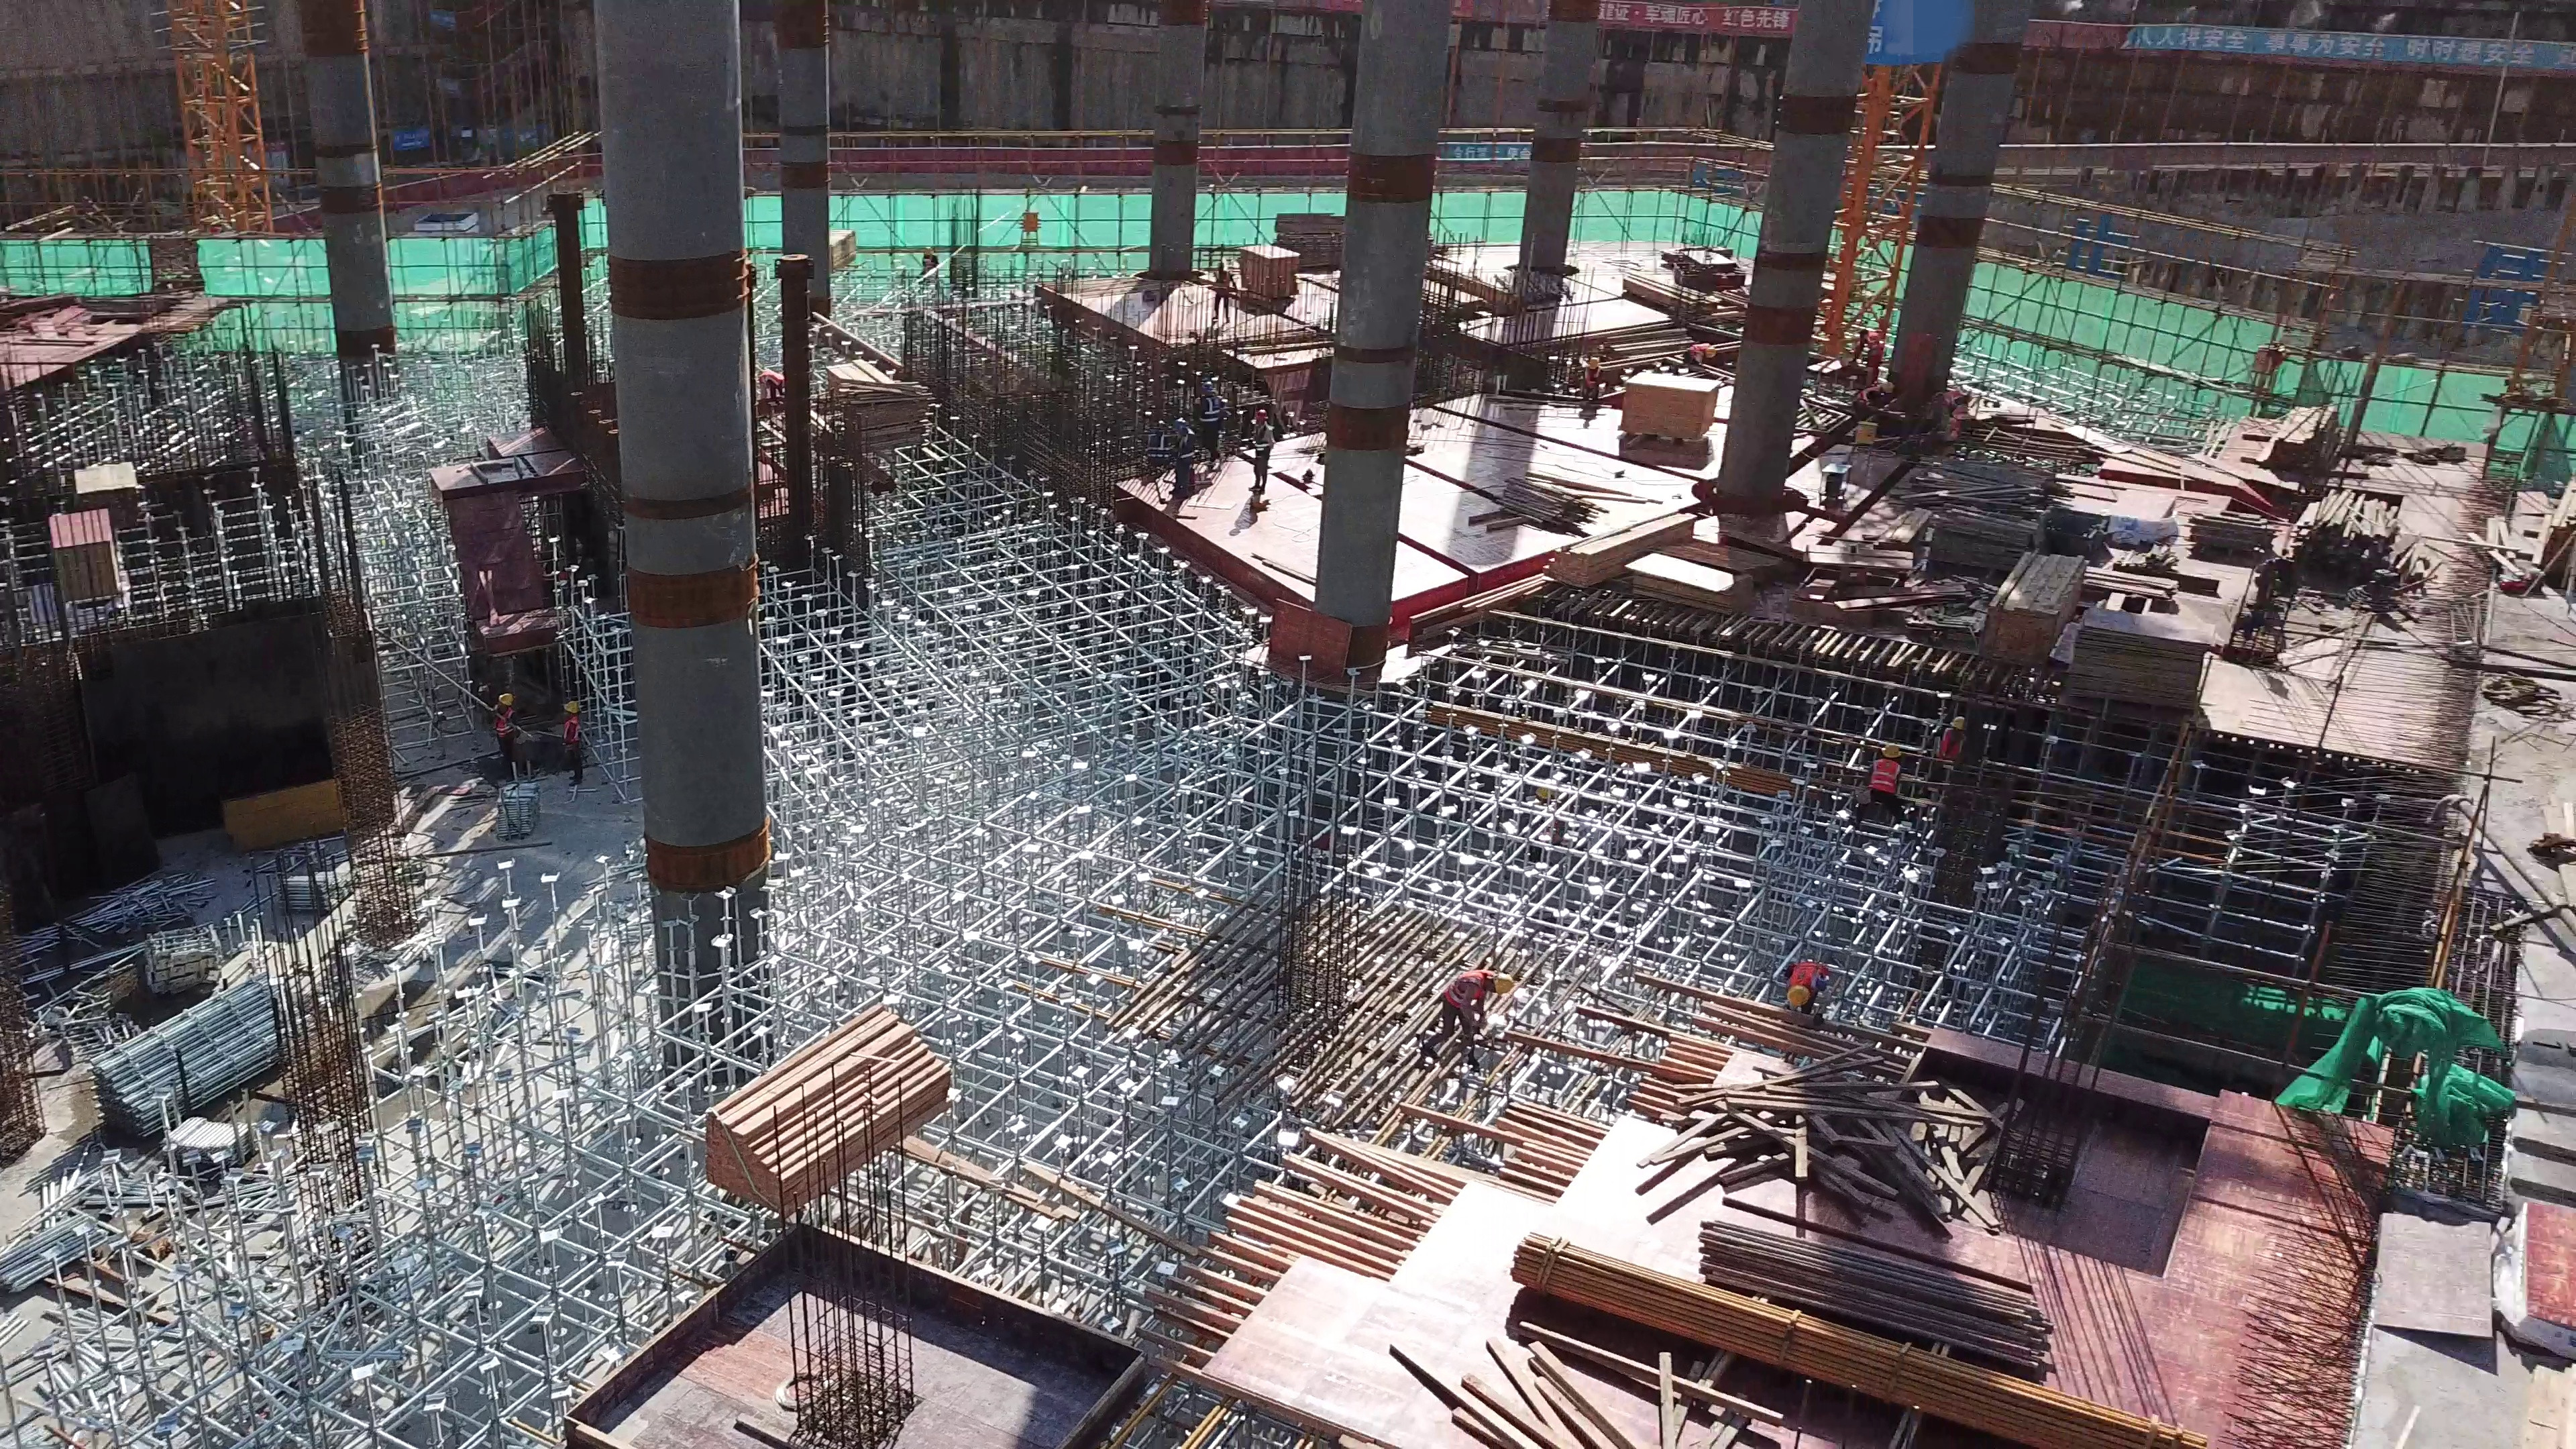board: (2084, 613, 2209, 718), (48, 508, 123, 596), (1623, 376, 1713, 441)
ebox: (1848, 419, 1882, 458)
helmet: (1869, 755, 1897, 801), (1785, 987, 1810, 1016), (1947, 714, 1971, 735), (1491, 971, 1513, 994), (563, 700, 582, 719), (496, 691, 516, 707), (1877, 744, 1900, 758), (1170, 416, 1186, 433), (1256, 409, 1268, 426), (1201, 380, 1215, 394), (1152, 420, 1167, 433), (1878, 380, 1894, 394), (1703, 346, 1718, 358), (1586, 358, 1601, 368)
person: (1430, 959, 1511, 1071), (1861, 745, 1913, 837), (1193, 385, 1232, 469), (486, 694, 525, 777), (1778, 959, 1831, 1016), (1927, 715, 1980, 769), (555, 700, 584, 788), (1248, 408, 1271, 502), (1171, 421, 1196, 496), (1576, 357, 1605, 414), (1143, 418, 1169, 478), (1686, 344, 1717, 370)
scaffold: (89, 975, 301, 1131), (1, 1207, 111, 1292), (146, 1110, 259, 1184), (275, 869, 341, 921), (492, 783, 545, 843)
slogan: (2102, 22, 2576, 91), (1565, 1, 1808, 45)
vest: (1444, 969, 1485, 1012), (1782, 955, 1821, 991), (1144, 433, 1171, 465), (1201, 395, 1223, 434), (1939, 736, 1964, 767), (1177, 438, 1198, 468), (495, 711, 515, 744), (561, 718, 579, 750), (1582, 370, 1602, 395)
wood: (1503, 1214, 2176, 1449), (1711, 1060, 1994, 1205), (702, 1028, 966, 1173), (1460, 1371, 1739, 1449), (2304, 492, 2429, 602), (1939, 455, 2034, 550), (1997, 560, 2071, 659)
